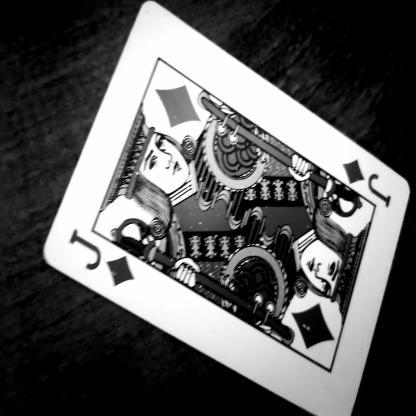JD: (58, 224, 142, 302), (331, 147, 408, 222)
